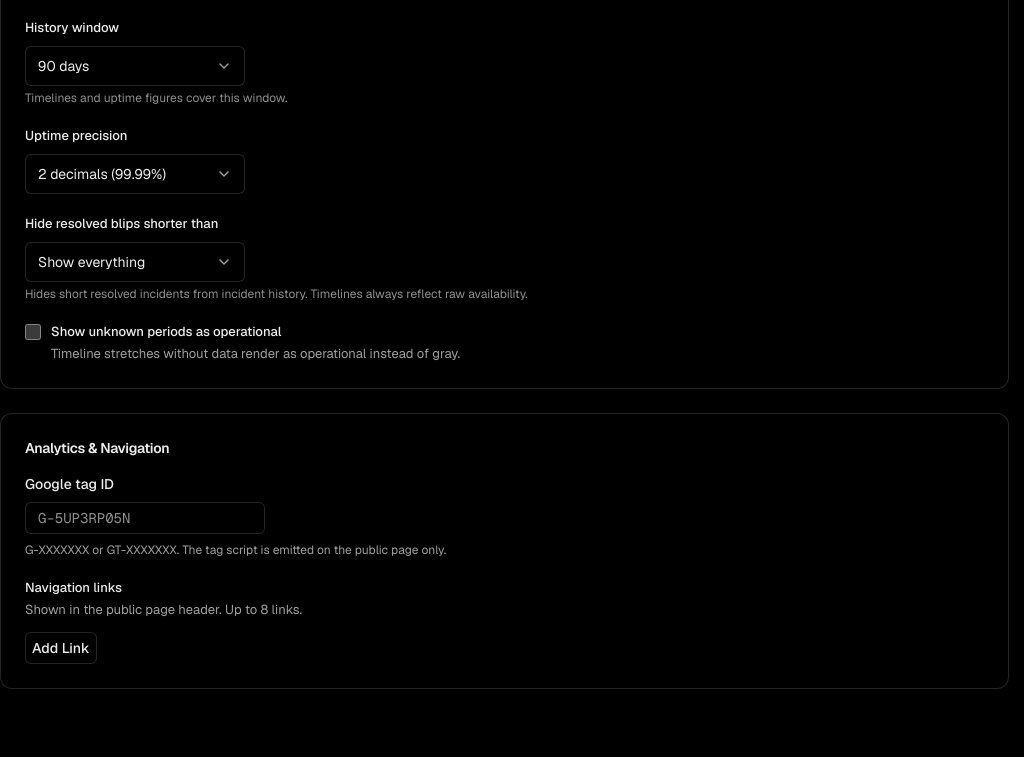
StatusPageSettings navigation links › adds and removes rows below the cap without an instant validation alert
The width and height of the screenshot is (1024, 757).
(page scrolled)
Click the button "Add Link".
click(61, 648)  # box x1=25 y1=632 x2=97 y2=664
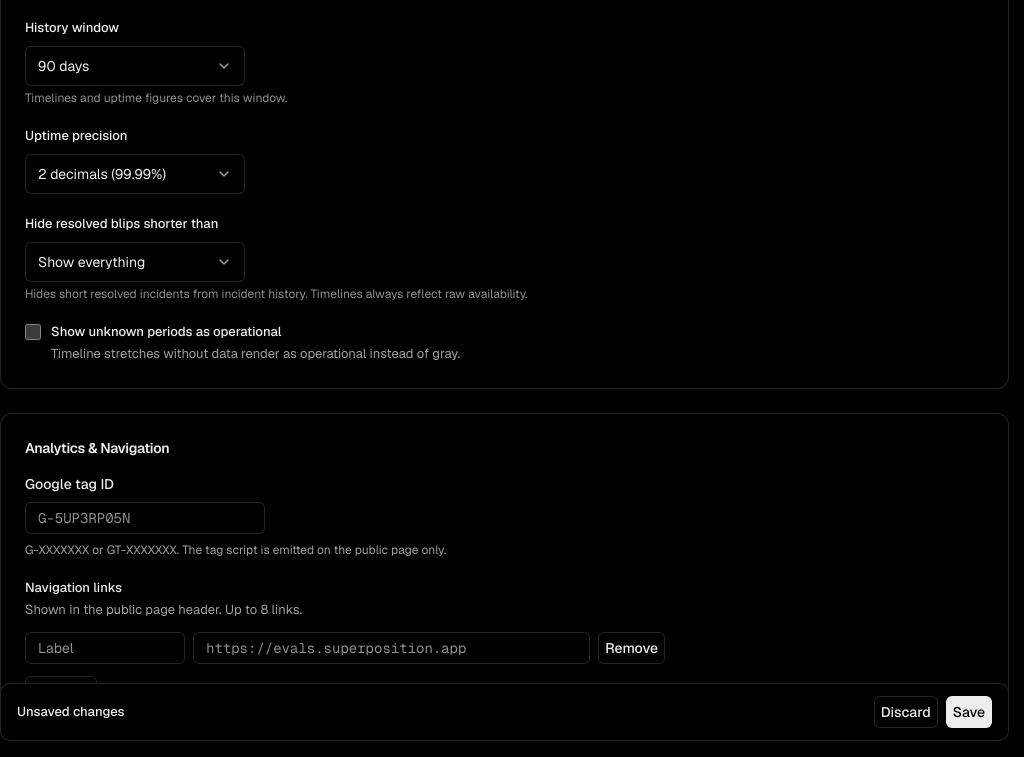
Expected: the field named "Link 1 label" is shown
Type "Docs" into the field named "Link 1 label".
click(105, 648); type("Docs")  # box x1=25 y1=632 x2=185 y2=664
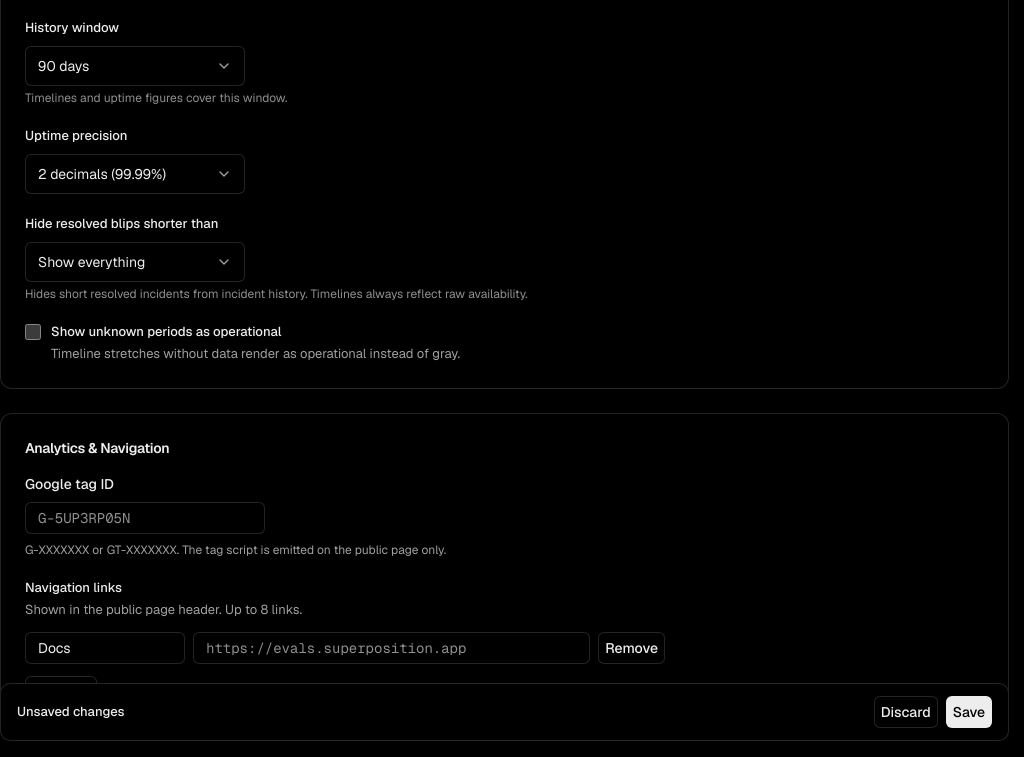
Click the button with aria-label "Remove link 1".
click(632, 648)  # box x1=598 y1=632 x2=665 y2=664
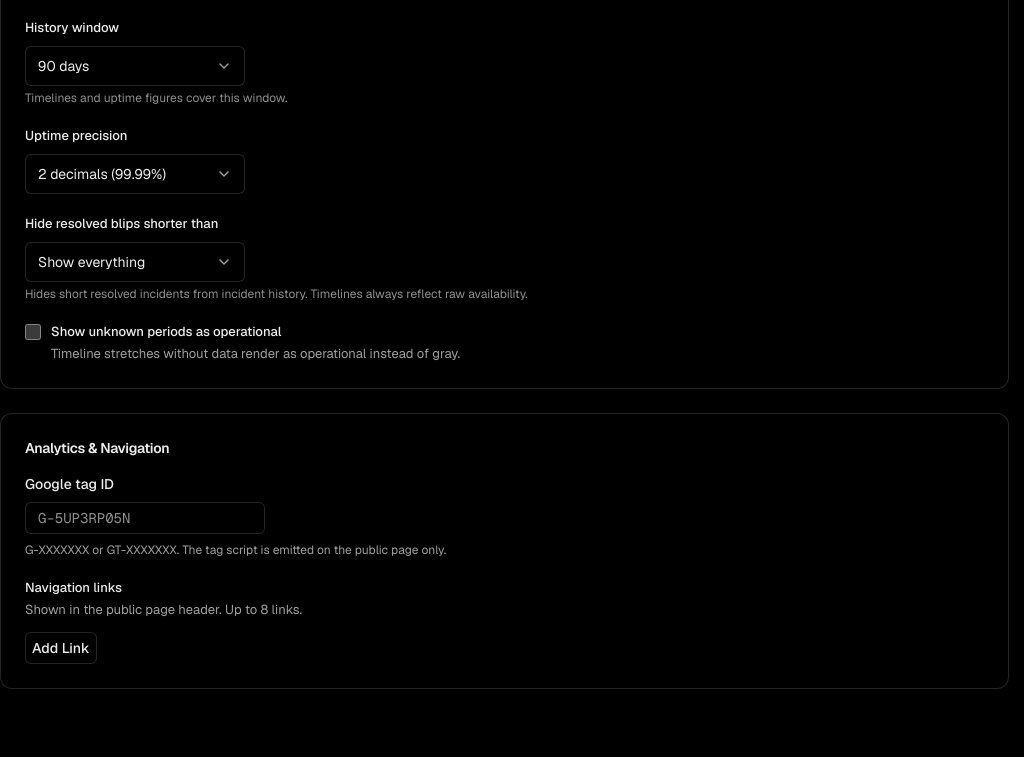
Expected: the field labelled "Link 1 label" is gone
